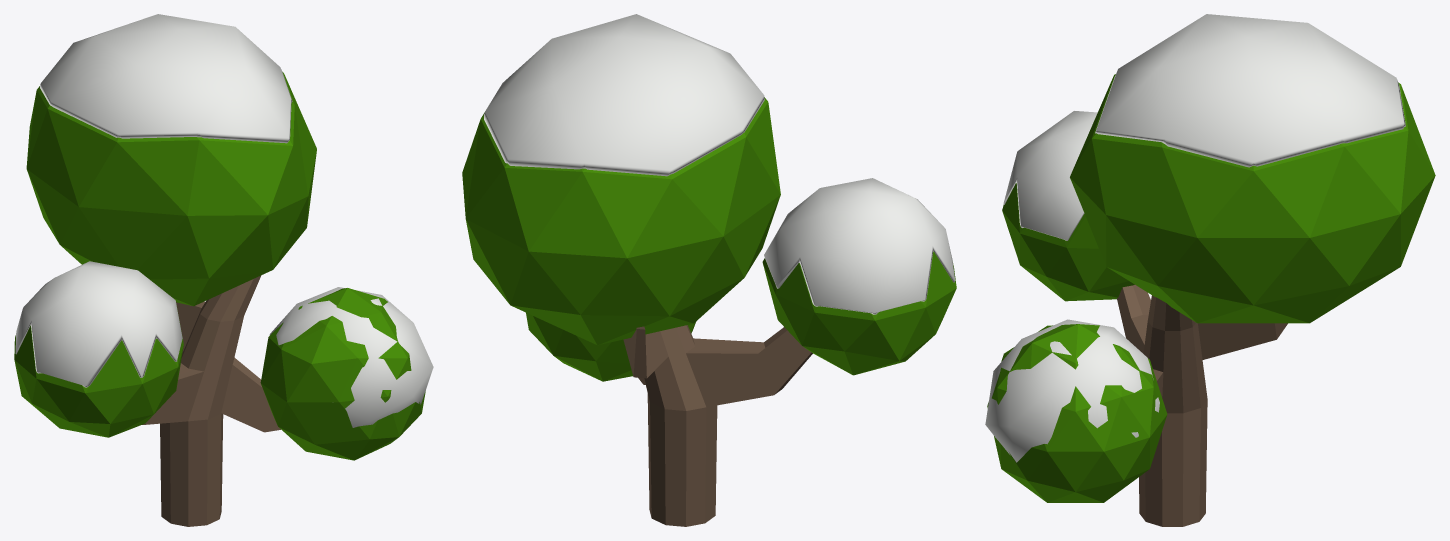
File: WinterBush.gltf
3 views of the same model, side by side, from view 1: azimuth 30°, elevation 25°; view 2: azimuth 150°, elevation 25°; view 3: azimuth 270°, elevation 25° (orthographic). The views are drawn at different scales.
Parts seen in each view (by area): view 1: bush.001, Bush_snow.001, bush_master, bush.002, Bush_snow, bush, Bush_snow.002; view 2: bush.001, Bush_snow.001, bush_master, Bush_snow, bush, bush.002; view 3: bush.001, Bush_snow.001, bush_master, bush.002, Bush_snow.002, Bush_snow, bush.
Boxes of the visible parts, x1,y1,x2,y2 form: bush.001: (26,72,316,306); Bush_snow.001: (40,14,292,143); bush_master: (142,275,280,526); bush.002: (260,288,425,460); Bush_snow: (15,261,182,387); bush: (14,306,183,437); Bush_snow.002: (269,287,433,427); bush.001: (462,97,780,345); Bush_snow.001: (484,14,764,176); bush_master: (623,325,812,526); Bush_snow: (764,178,955,314); bush: (762,251,956,375); bush.002: (526,312,696,381); bush.001: (1070,74,1435,323); Bush_snow.001: (1095,14,1405,167); bush_master: (1117,285,1287,526); bush.002: (987,324,1167,502); Bush_snow.002: (985,319,1159,462); Bush_snow: (1003,111,1097,240); bush: (1002,183,1134,301).
Bounding box in the file's own units: 0.7298 × 0.8271 × 0.6921.
